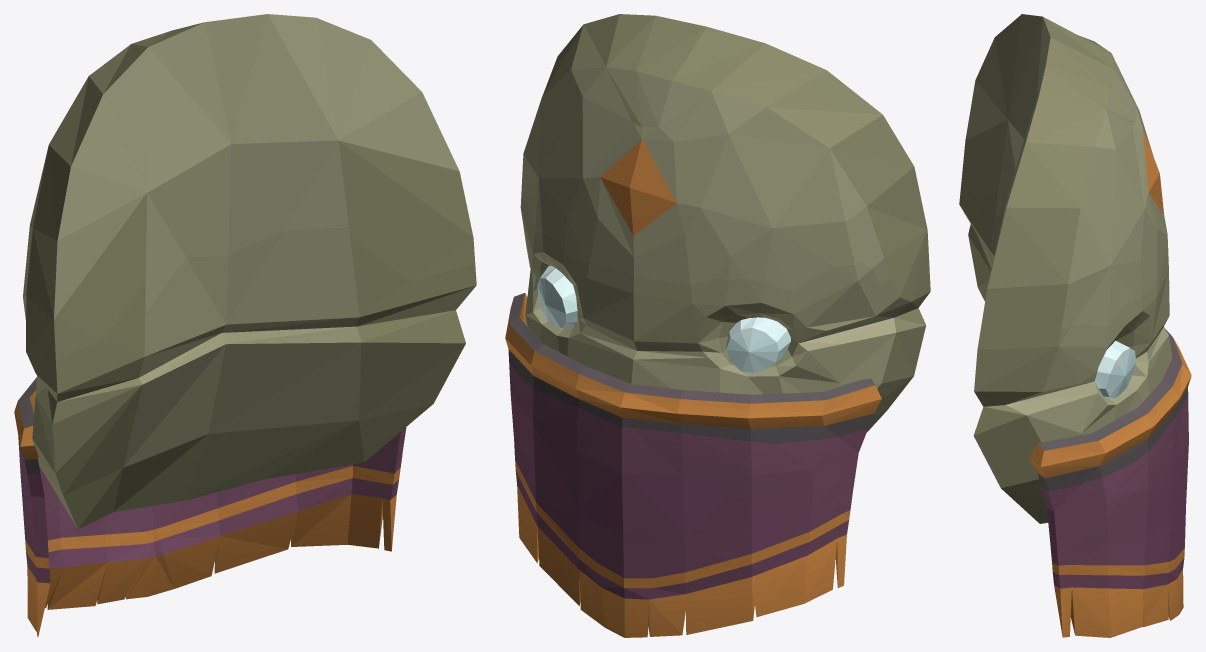
Rendered from CharSkyKid_Mask_AP06VeilA.glb.
3 renders of one model, left to right at view 1: azimuth 30°, elevation 25°; view 2: azimuth 150°, elevation 25°; view 3: azimuth 270°, elevation 25°, orthographic. The views are drawn at different scales.
Visible parts, largest first — view 1: CharSkyKid_Mask_AP06VeilA; view 2: CharSkyKid_Mask_AP06VeilA; view 3: CharSkyKid_Mask_AP06VeilA.
Part boxes in pixels (x1,y1,x2,y2): CharSkyKid_Mask_AP06VeilA: [14, 14, 476, 637]; CharSkyKid_Mask_AP06VeilA: [505, 14, 930, 637]; CharSkyKid_Mask_AP06VeilA: [959, 14, 1191, 637].
Bounding box in the file's own units: 2.15 × 3.05 × 1.14.
1 material, 1 textured.
